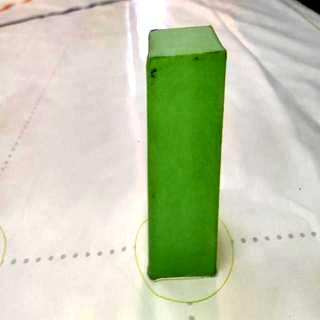greenbox: (144, 23, 228, 284)
